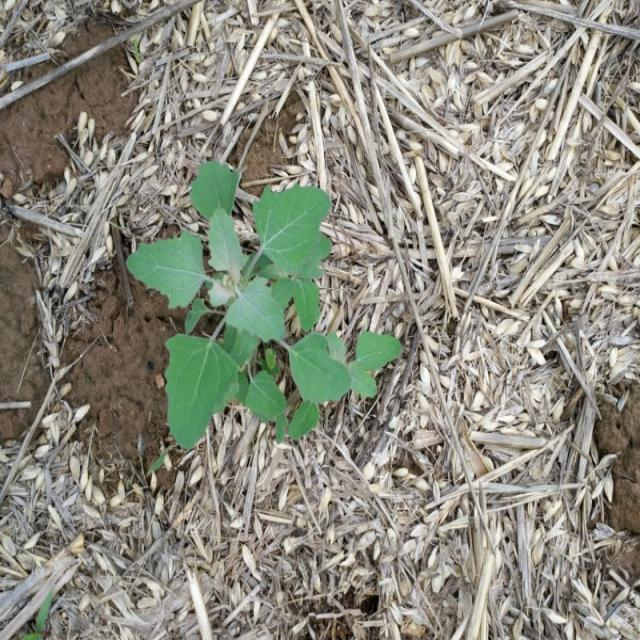goosefoots: (138, 168, 402, 450)
